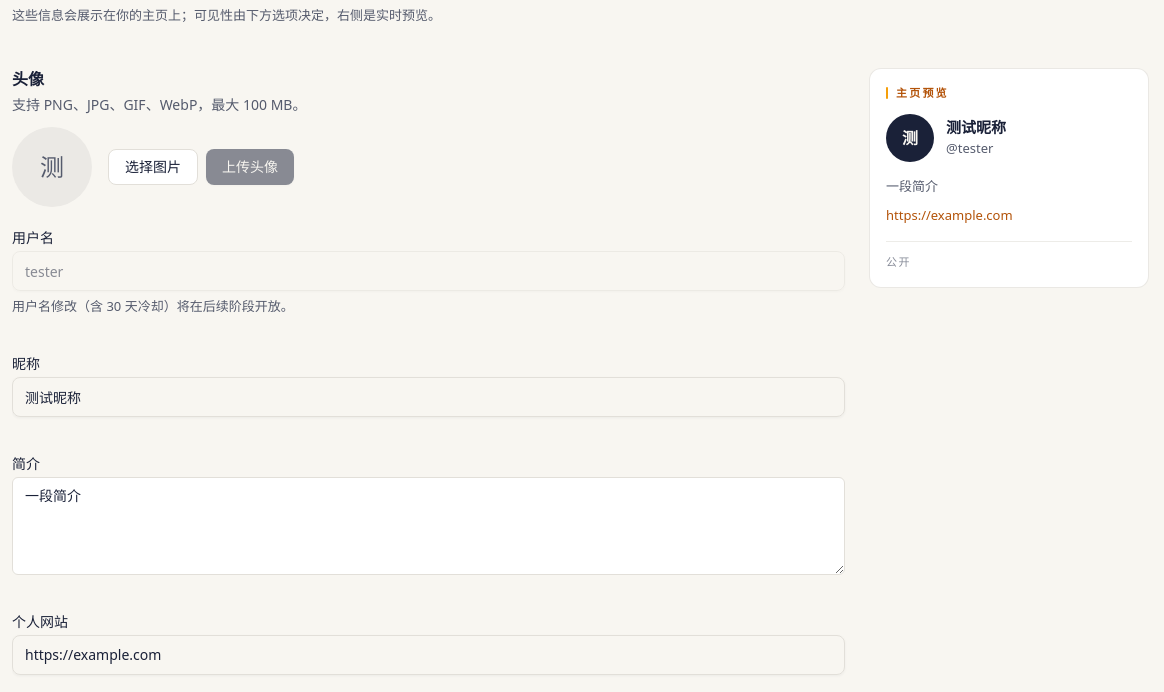
Test: SettingsProfilePage — edit and save › explains a 409 conflict and offers a manual reload
The image size is (1164, 692).
Replace the text in the field labelled "昵称" with "并发改名" at (428, 397), box [12,377,845,417]
(page scrolled)
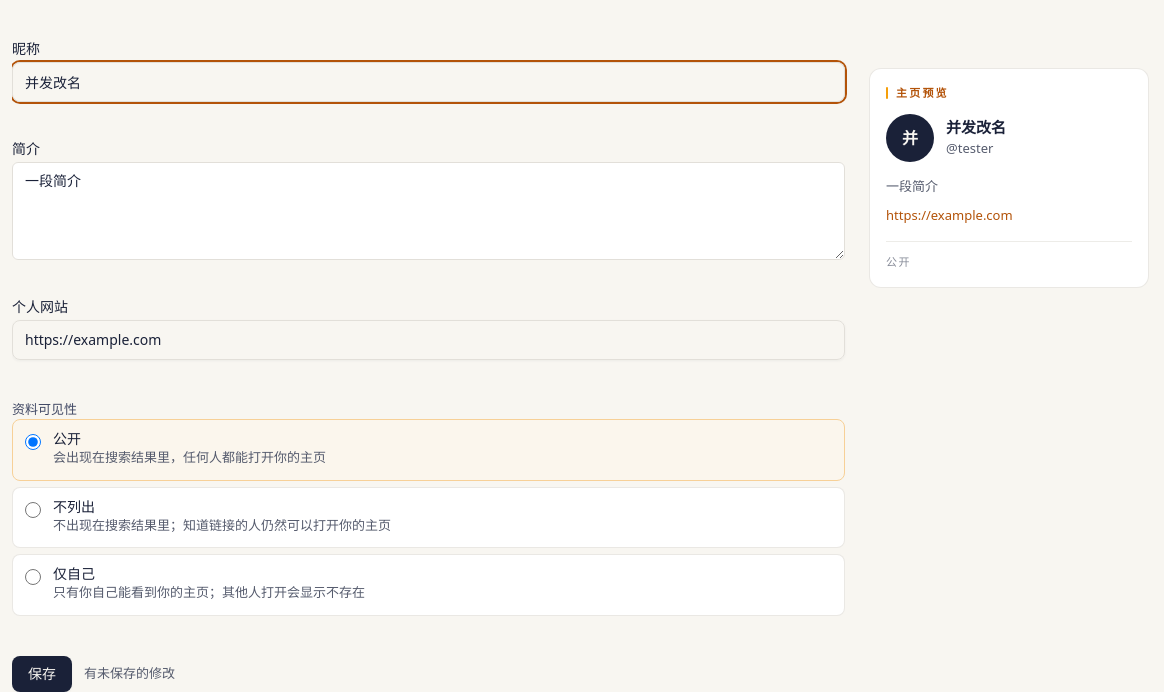
Click the button "保存" at (42, 674), box [12,656,72,691]
(page scrolled)
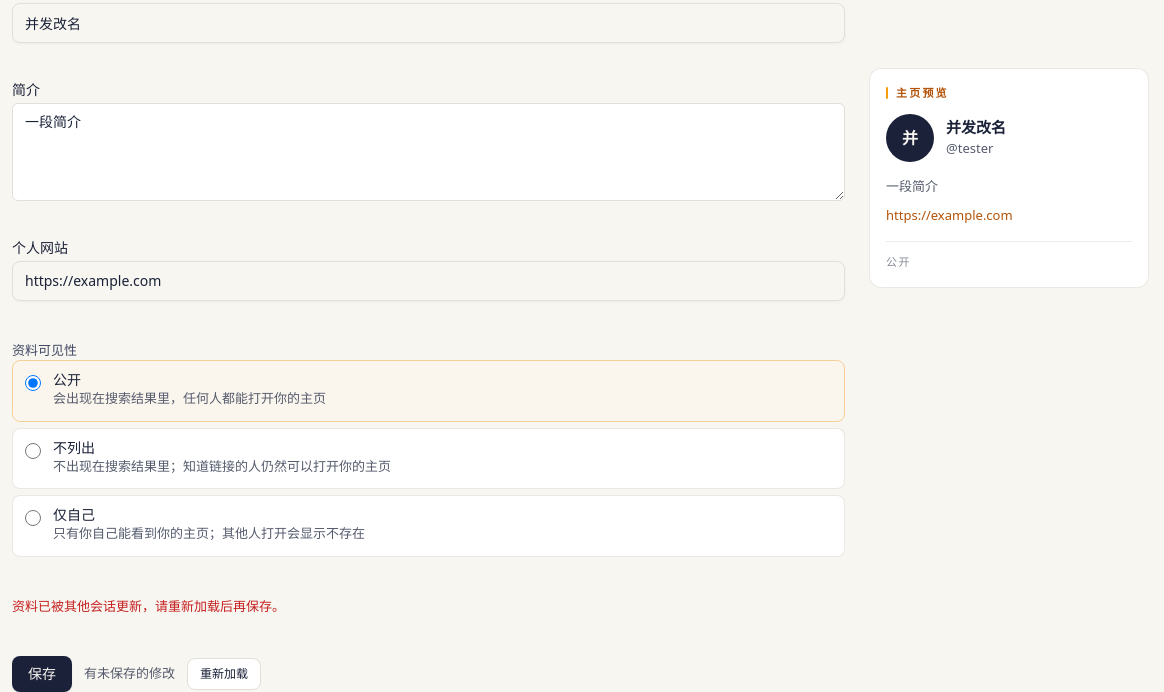
Now the message with test id "profile-save-error" shows "资料已被其他会话更新", box [12,597,285,615]
Now the button "重新加载" is shown, box [187,658,261,690]
